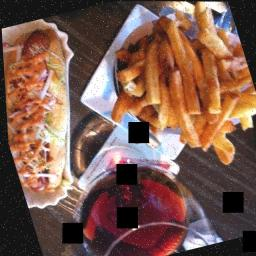hotdog: (15, 27, 53, 57)
